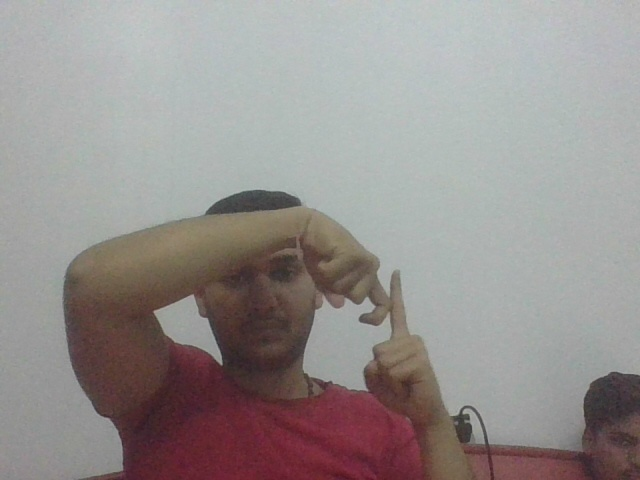K: (348, 262, 431, 353)
